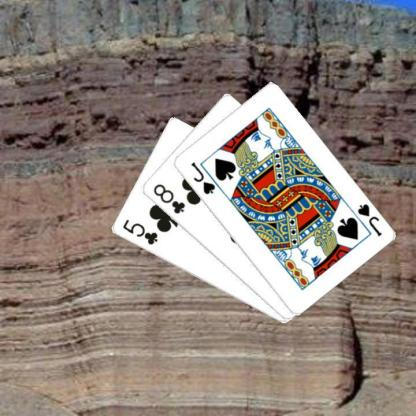5C: (119, 216, 159, 246)
8C: (150, 181, 186, 215)
JS: (354, 201, 383, 238), (188, 159, 216, 196)
